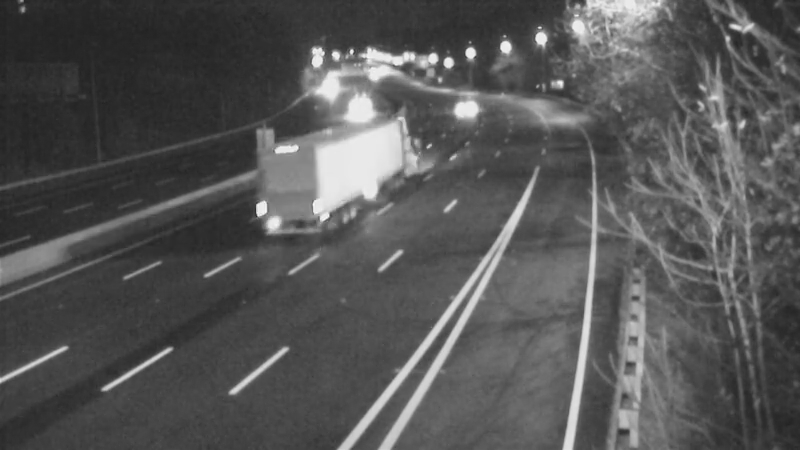vehicle: (299, 129, 379, 209), (438, 80, 488, 130), (337, 82, 387, 132), (306, 60, 356, 110)
